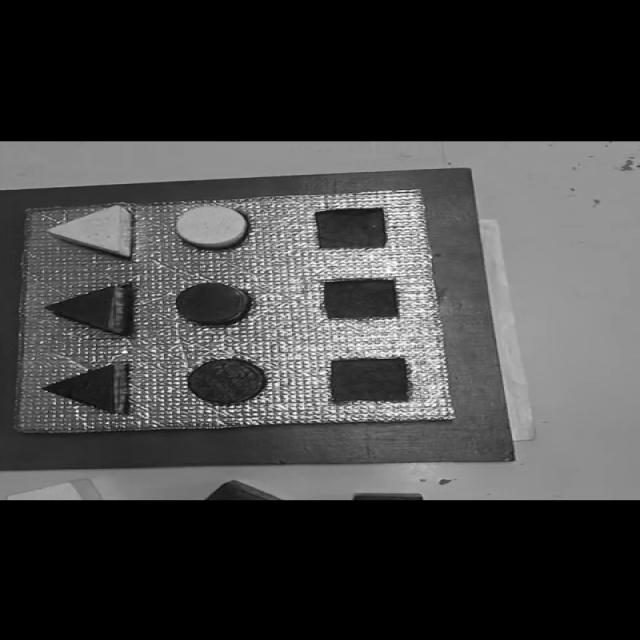bcircle: (185, 356, 271, 406)
btriangle: (43, 362, 132, 414)
mtcube: (327, 355, 413, 403), (321, 277, 403, 320), (313, 206, 391, 250)
rcircle: (174, 282, 249, 324)
rcube: (204, 480, 286, 499)
rtriangle: (43, 284, 134, 337)
wb: (13, 190, 460, 433)
ycircle: (174, 204, 248, 249)
ycube: (8, 481, 100, 500)
ytriangle: (45, 204, 134, 260)
